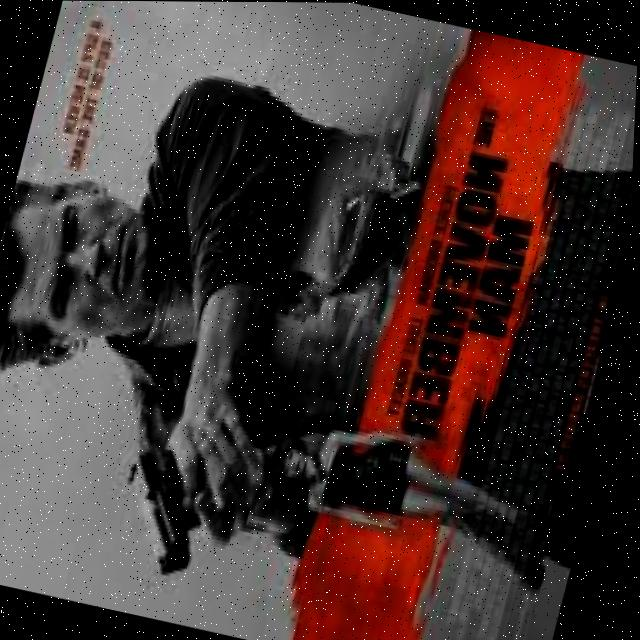pistol: (105, 438, 223, 582)
